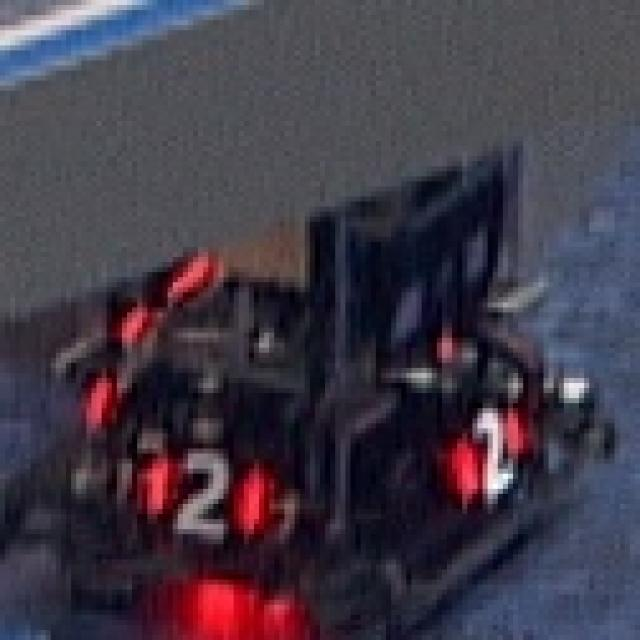R2: (142, 449, 264, 539), (442, 398, 533, 504)
